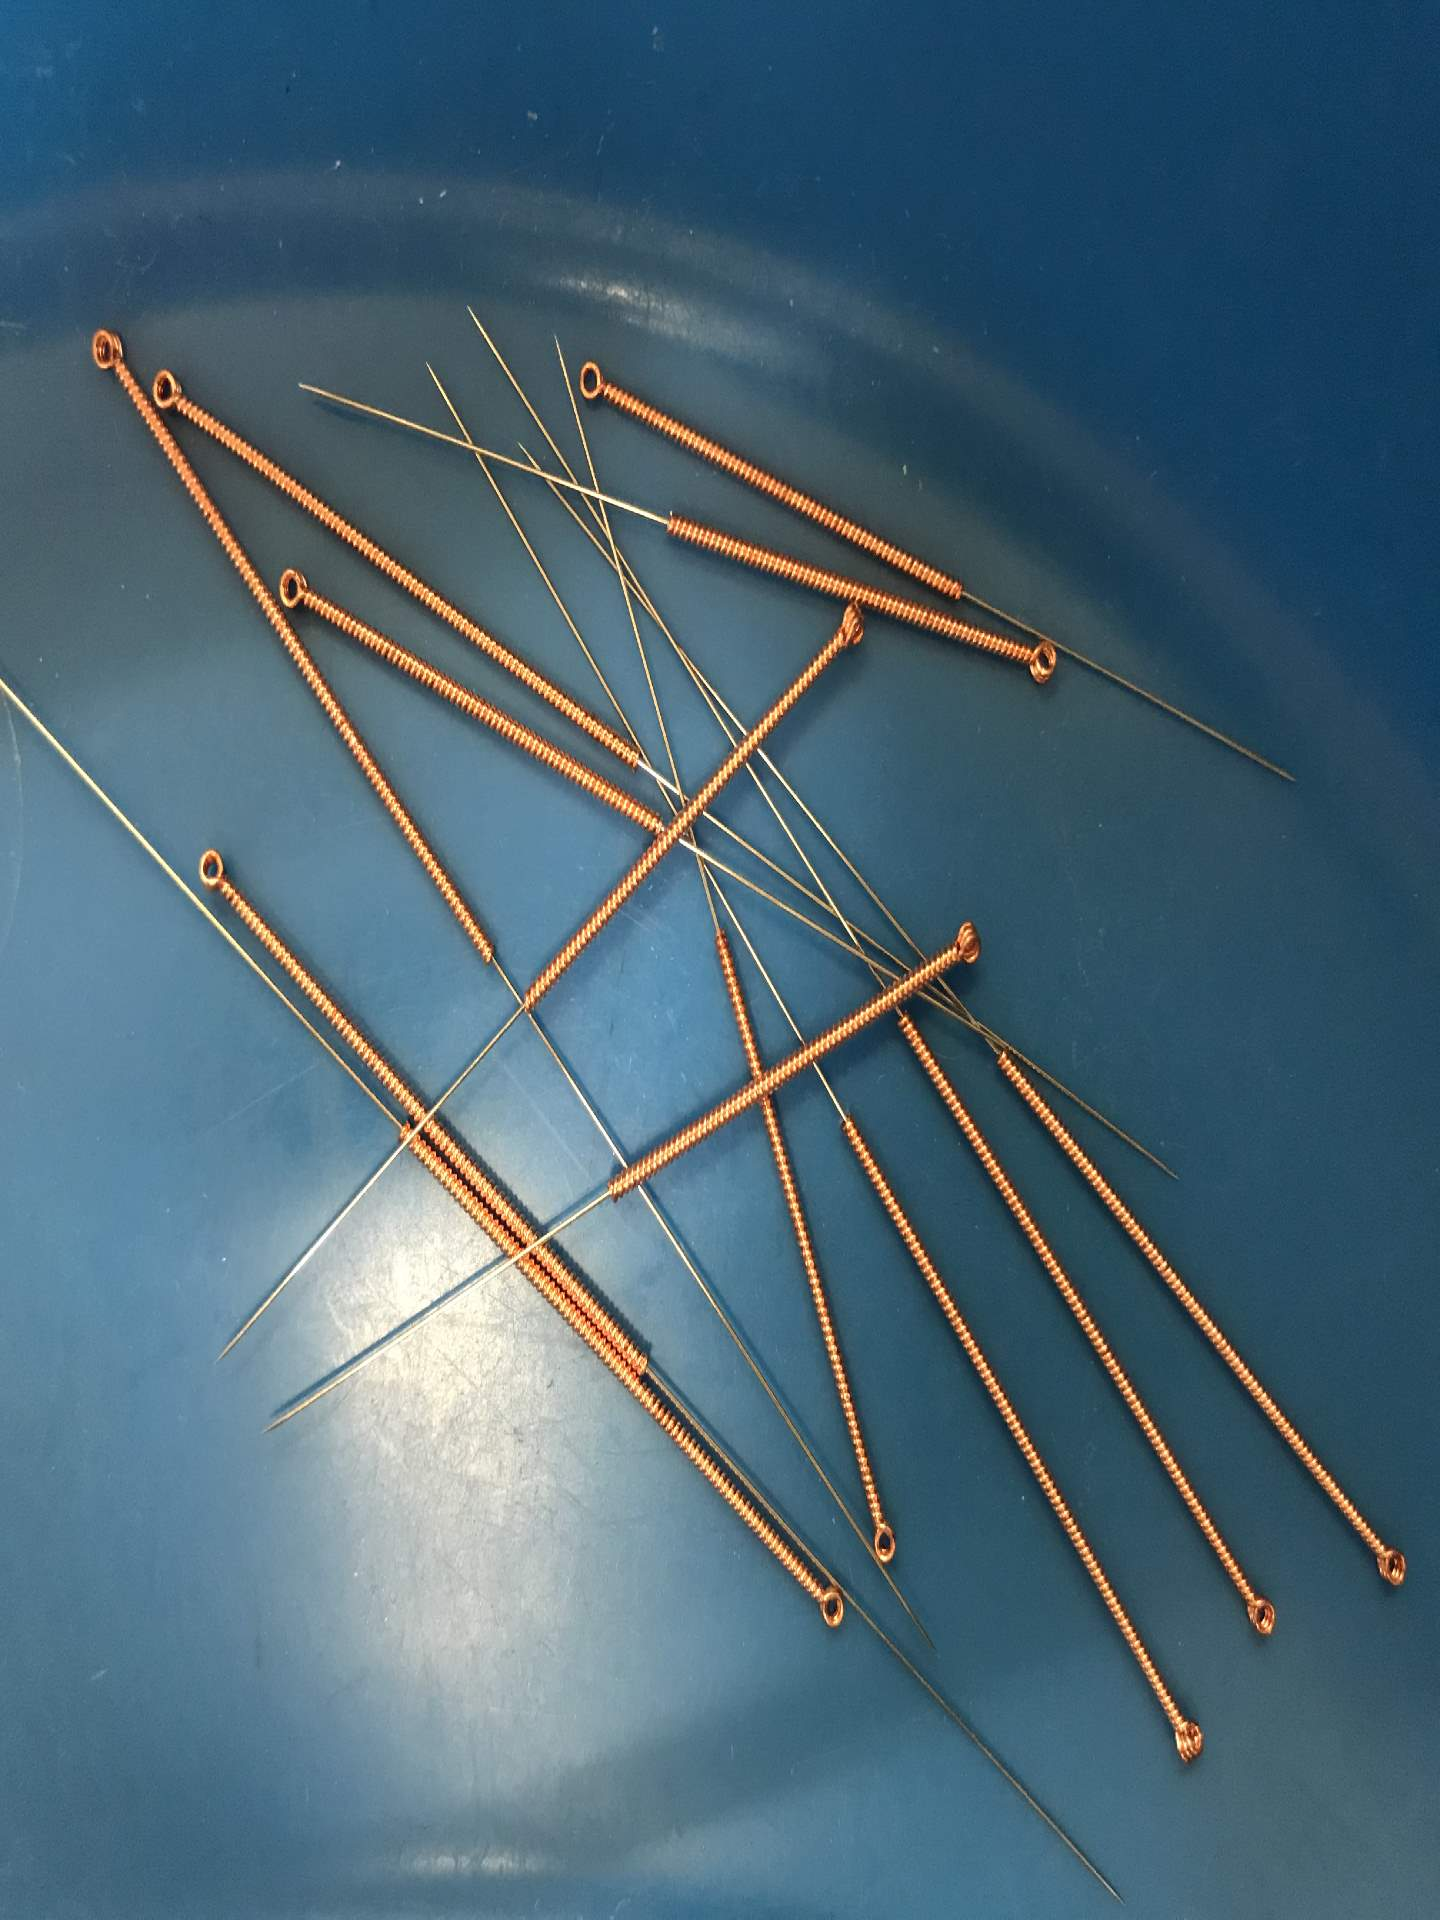needle: (1147, 1690, 1216, 1785), (787, 1568, 864, 1648), (1224, 1572, 1293, 1657), (1351, 1522, 1420, 1606), (564, 348, 625, 423), (929, 909, 992, 980), (852, 1497, 908, 1577), (185, 836, 245, 907), (818, 596, 874, 670), (79, 316, 135, 389), (1012, 630, 1071, 698), (269, 559, 340, 615), (144, 360, 203, 419)
